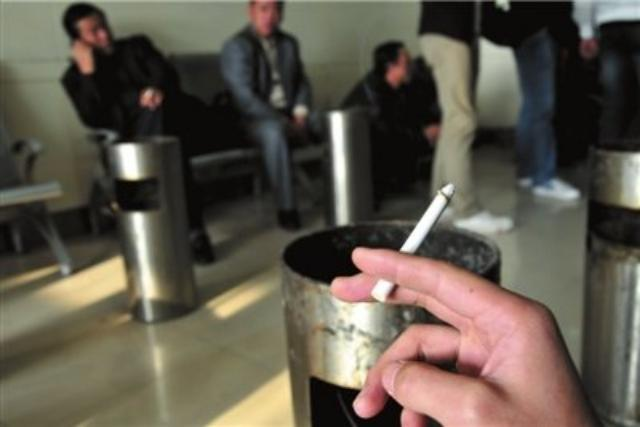Smoking: (366, 180, 458, 300)
